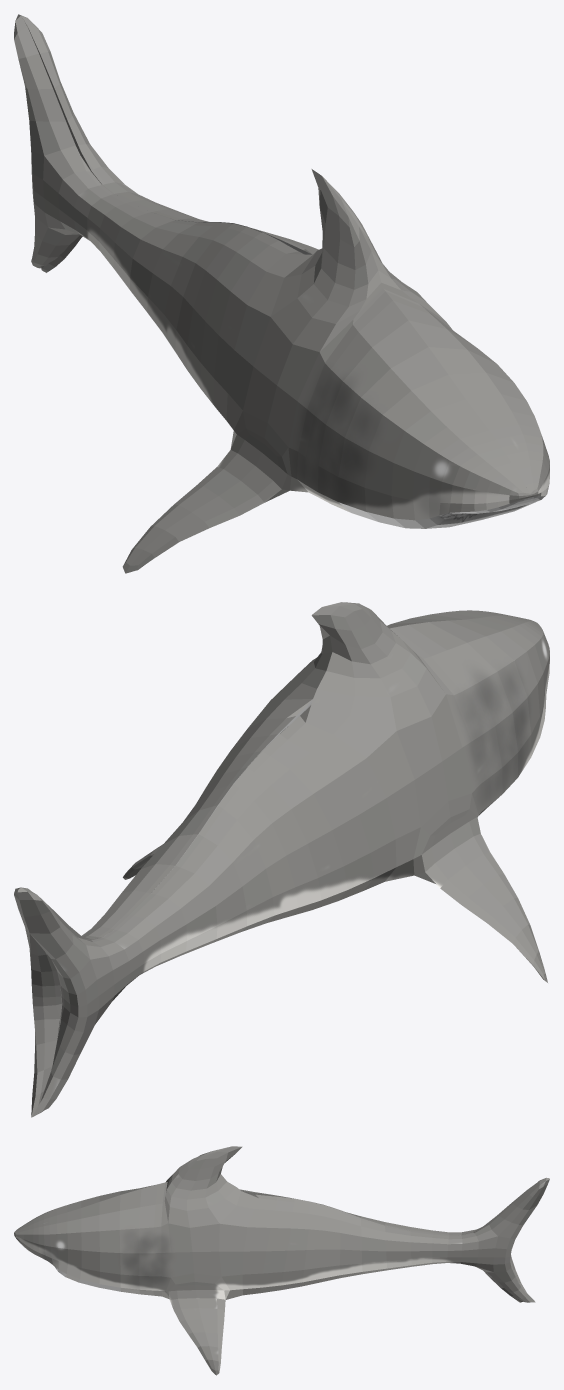
File: bob.obj
The picture shows the model from 3 angles, top to bottom: view 1: azimuth 30°, elevation 25°; view 2: azimuth 150°, elevation 25°; view 3: azimuth 270°, elevation 25°; orthographic projection. The views are drawn at different scales.
Visible parts, largest first — view 1: bob; view 2: bob; view 3: bob.
Boxes of the visible parts, x1=… form: bob: x1=14, y1=14, x2=549, y2=573; bob: x1=14, y1=602, x2=549, y2=1117; bob: x1=14, y1=1146, x2=549, y2=1375.
Bounding box in the file's own units: 6.04 × 4.58 × 12.68.
Materials: 1 (1 with a texture image).
